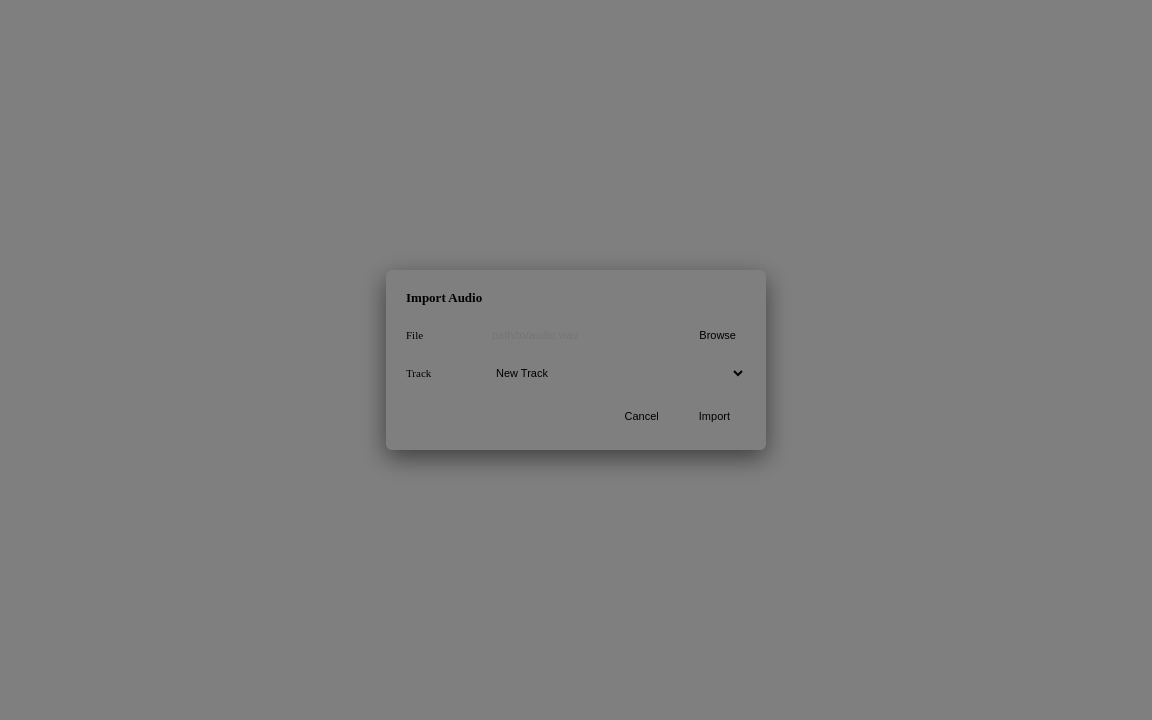
ImportDialog › file browsing › Browse button opens prompt and sets path for audio
Click the button "Browse": (718, 335) [689,322,746,348]
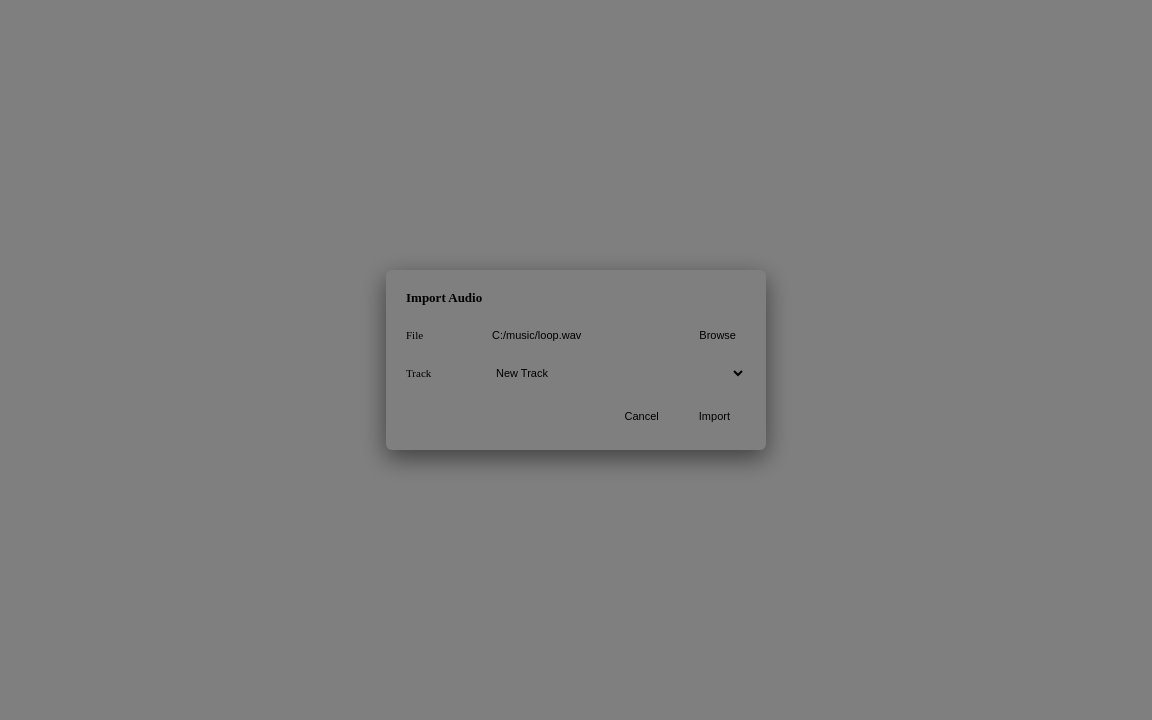
Expected: the field with placeholder "path/to/audio.wav" holds "C:/music/loop.wav", [484,322,681,348]
